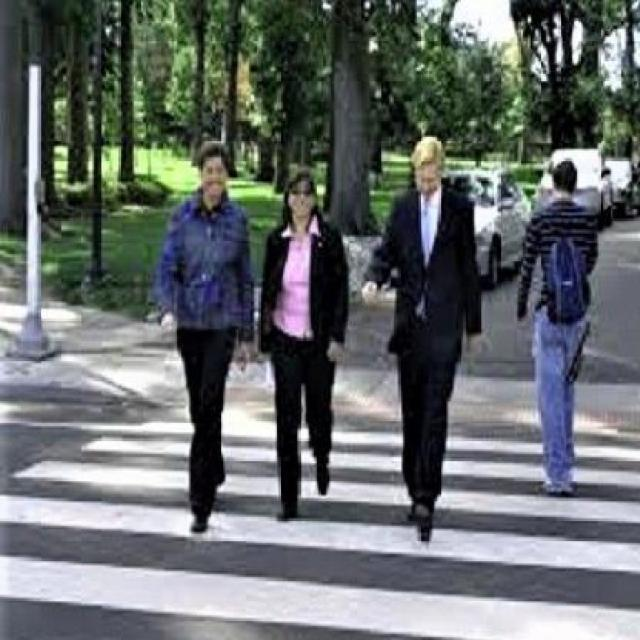Person: (360, 127, 482, 542), (160, 138, 255, 542), (257, 165, 349, 520), (517, 155, 594, 497)
